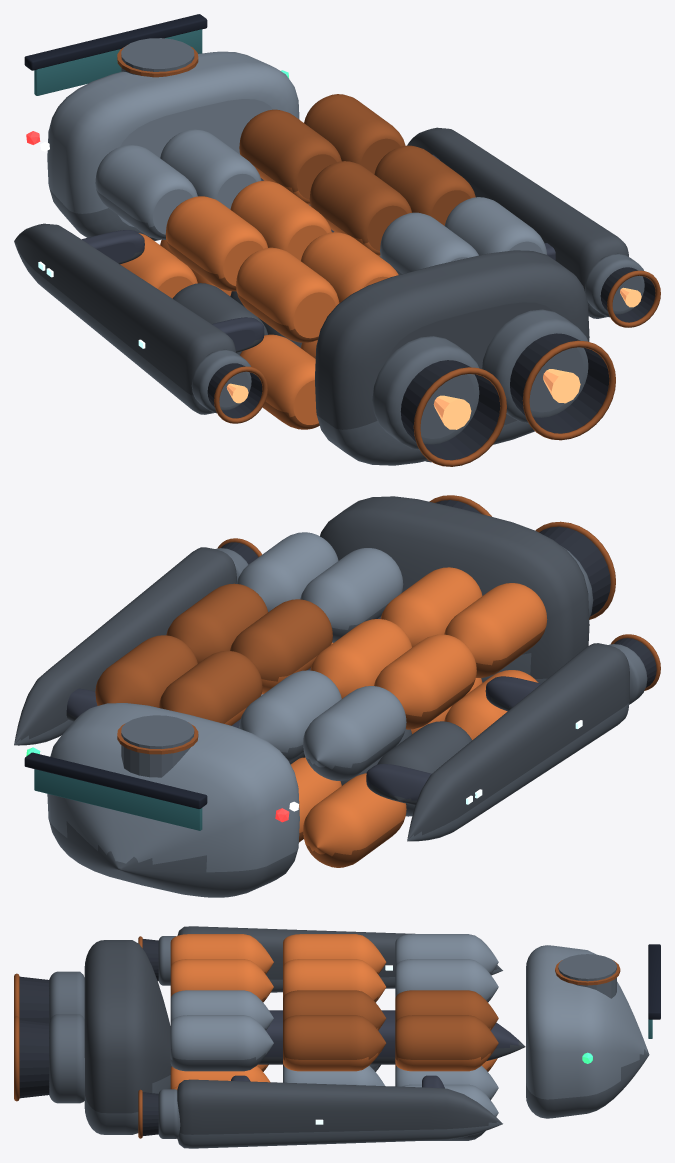
The model's file is porter.glb.
The picture shows the model from 3 angles, top to bottom: view 1: azimuth 30°, elevation 25°; view 2: azimuth 150°, elevation 25°; view 3: azimuth 270°, elevation 25°; orthographic projection. The views are drawn at different scales.
Visible parts, largest first — view 1: porter_mesh; view 2: porter_mesh; view 3: porter_mesh.
Part boxes in pixels (x1,y1,x2,y2): porter_mesh: [14, 14, 660, 466]; porter_mesh: [14, 495, 660, 897]; porter_mesh: [14, 926, 660, 1148].
Size of the model in its own units: 8.08 by 3.29 by 12.66.
